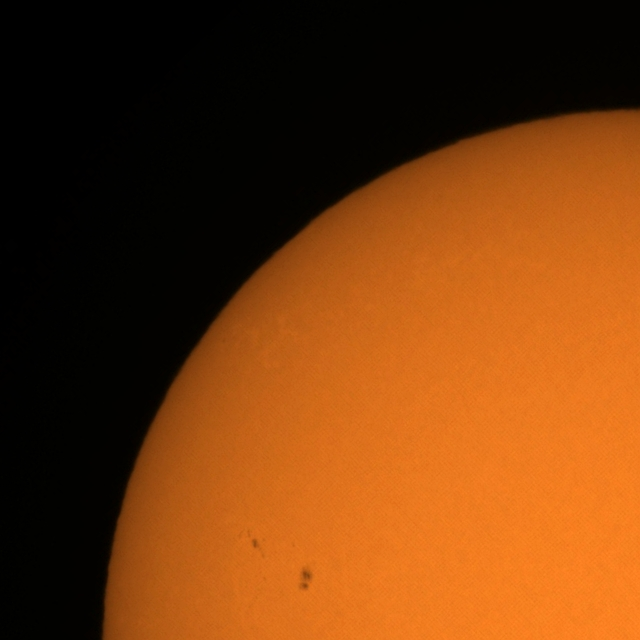sunspot: (297, 566, 314, 592), (246, 529, 264, 550)
